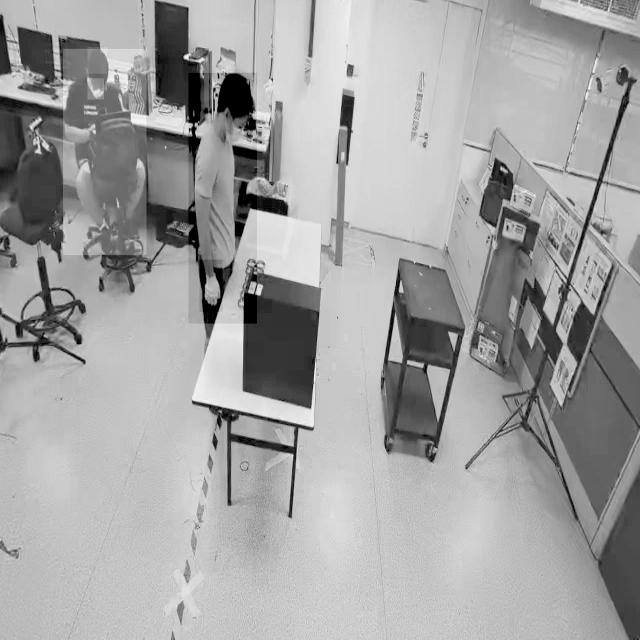face_mask: (219, 102, 251, 159), (88, 78, 104, 100)
hand_glove: (199, 259, 223, 313)
head_nohelmet: (217, 72, 253, 101), (88, 47, 108, 75)
person: (188, 73, 258, 324), (63, 49, 147, 256)
